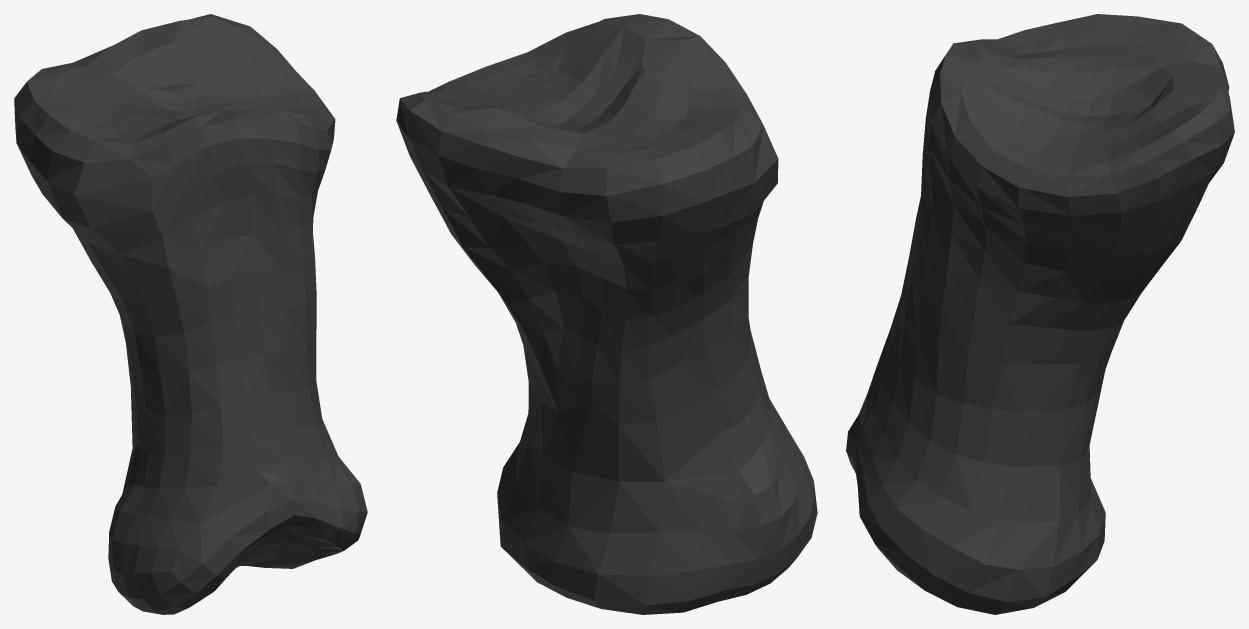
3 renders of one model, left to right at view 1: azimuth 30°, elevation 25°; view 2: azimuth 150°, elevation 25°; view 3: azimuth 270°, elevation 25°, orthographic. The views are drawn at different scales.
Visible parts, largest first — view 1: HL_P1_R; view 2: HL_P1_R; view 3: HL_P1_R.
Boxes of the visible parts, left/top/right/bottom form: HL_P1_R: left=14, top=14, right=367, bottom=614; HL_P1_R: left=396, top=14, right=817, bottom=614; HL_P1_R: left=846, top=14, right=1234, bottom=614.
Bounding box in the file's own units: 0.0825 × 0.1362 × 0.0934.
Materials: 1 (1 with a texture image).
